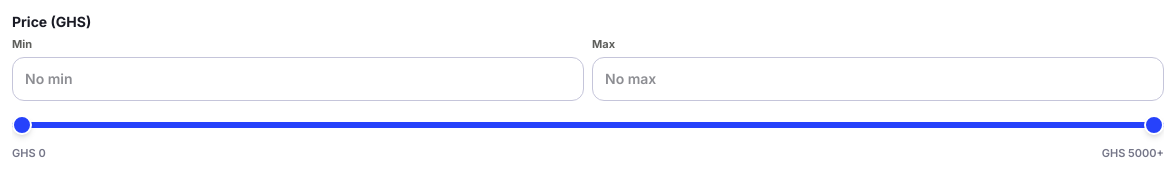
PriceRangeFilter › prevents handles from crossing and preserves an unset opposite bound
Set the slider named "Minimum price slider" to "500". click: (134, 124)
box: [12,112,1164,136]
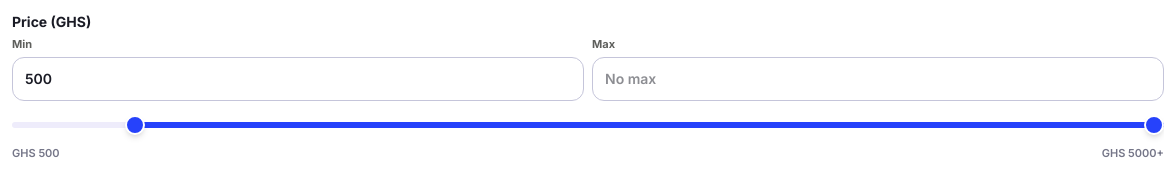
Expected: the number field named "Maximum price" is not empty, [592,56,1164,100]
Expected: the number field named "Minimum price" holds "500", [12,56,584,100]
Set the slider named "Maximum price slider" to "300". click: (88, 124)
box: [12,112,1164,136]
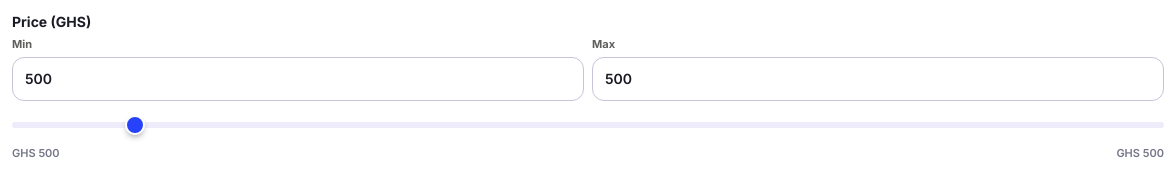
Expected: the number field named "Maximum price" holds "500", [592,56,1164,100]
